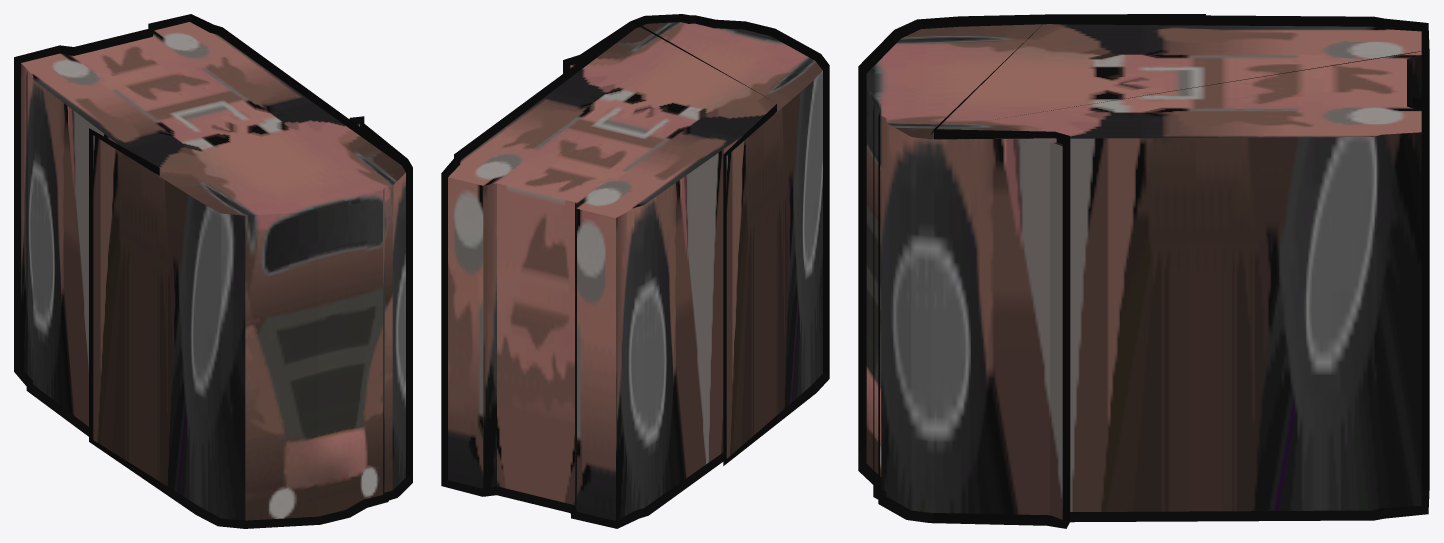
Rendered from Building_AncientRustedTruck_Things_Building_Ruins_RustedTruck.glb.
The picture shows the model from 3 angles, left to right: view 1: azimuth 30°, elevation 25°; view 2: azimuth 150°, elevation 25°; view 3: azimuth 270°, elevation 25°; orthographic projection. The views are drawn at different scales.
Visible parts, largest first — view 1: Body, Outline; view 2: Body, Outline; view 3: Body, Outline.
Part boxes in pixels (x1,y1,x2,y2): Body: (21, 22, 405, 520); Outline: (14, 14, 412, 528); Body: (448, 22, 822, 520); Outline: (441, 14, 829, 528); Body: (866, 24, 1421, 519); Outline: (858, 14, 1429, 528).
Bounding box in the file's own units: 0.8695 × 1.22 × 1.61.
Materials: 2 (1 with a texture image).
